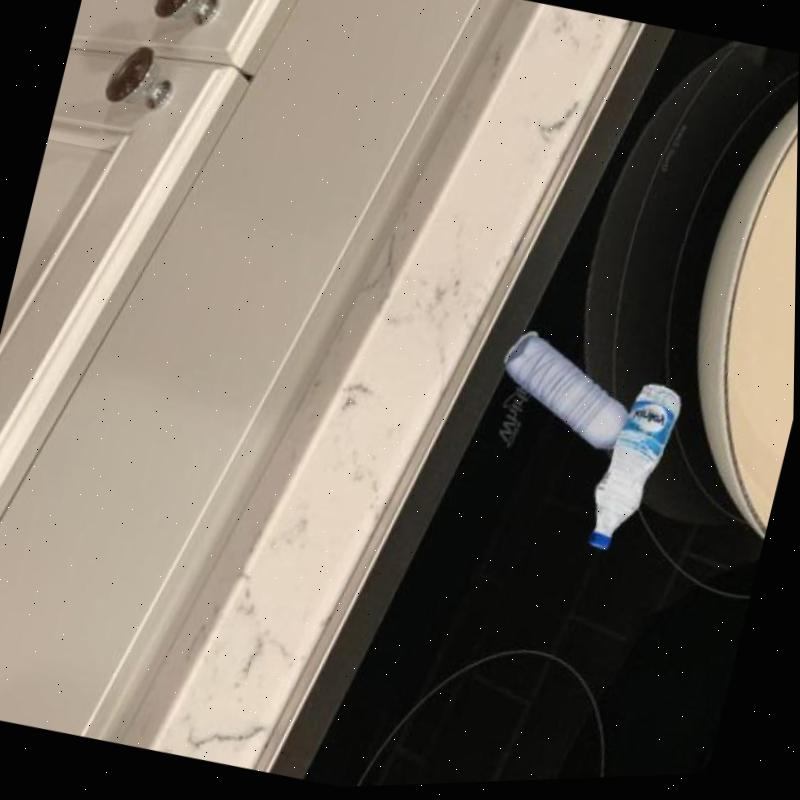botella: (490, 328, 643, 461), (581, 377, 686, 562)
